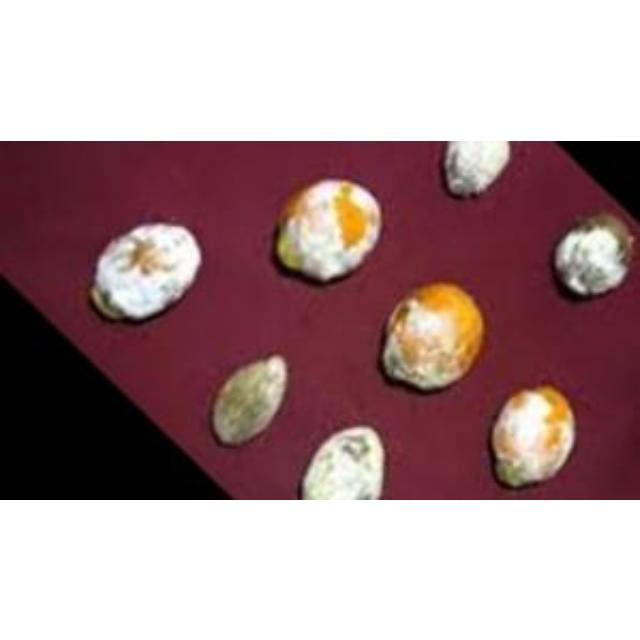damaged: (92, 216, 212, 324), (274, 176, 382, 282), (380, 279, 484, 389), (488, 383, 576, 487), (210, 352, 290, 448), (552, 210, 636, 296), (302, 425, 386, 499), (443, 140, 512, 198)
